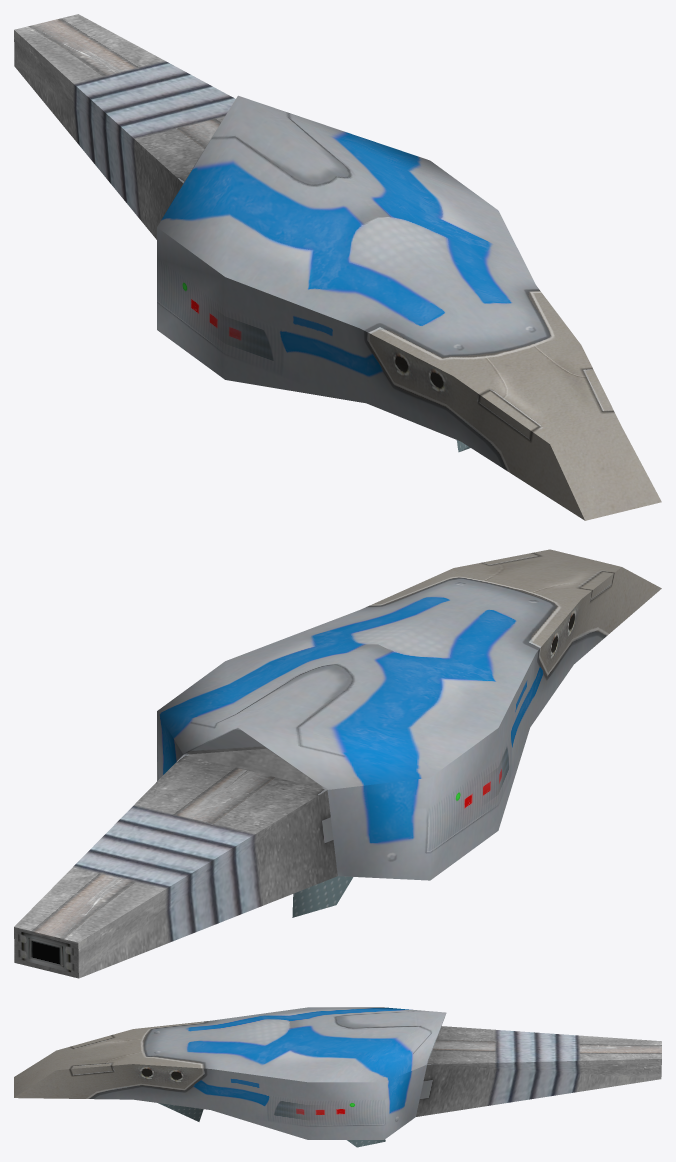
Rendered from afps_8.glb.
3 renders of one model, top to bottom at view 1: azimuth 30°, elevation 25°; view 2: azimuth 150°, elevation 25°; view 3: azimuth 270°, elevation 25°, orthographic. The views are drawn at different scales.
Visible parts, largest first — view 1: weapon8; view 2: weapon8; view 3: weapon8.
Part boxes in pixels (x1,y1,x2,y2): weapon8: [14, 14, 661, 520]; weapon8: [14, 549, 661, 978]; weapon8: [14, 1007, 661, 1147].
Size of the model in its own units: 0.3278 by 0.2654 by 1.2.
1 material, 1 textured.
